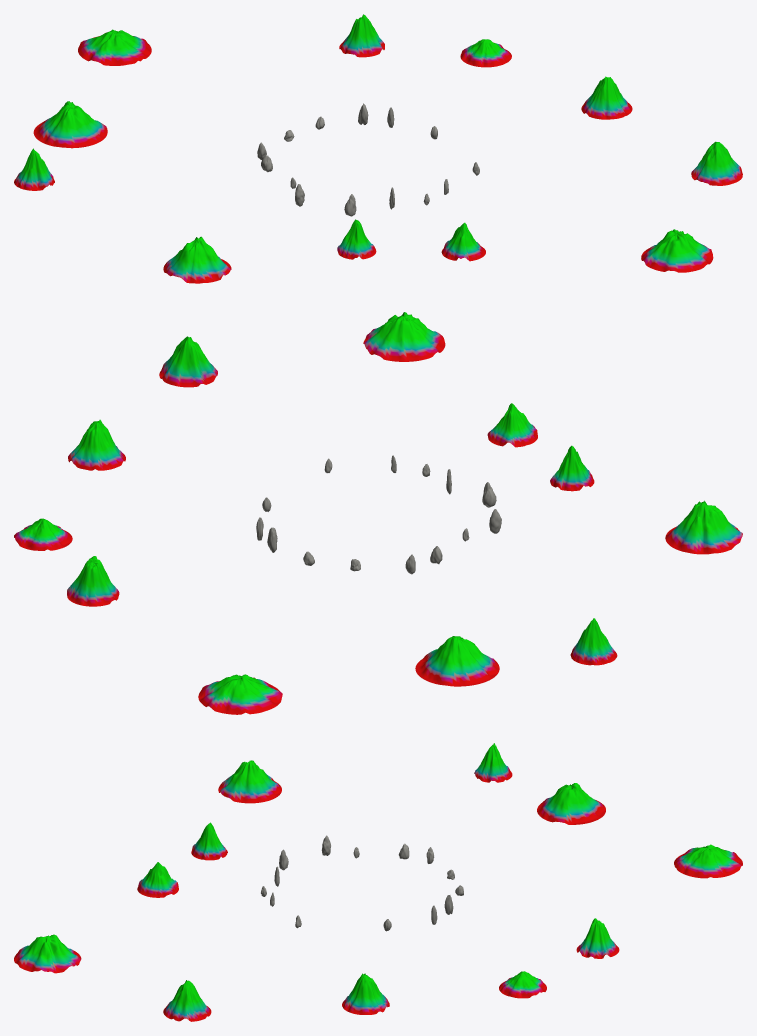
Rendered from dao_xa.glb.
The picture shows the model from 3 angles, top to bottom: view 1: azimuth 30°, elevation 25°; view 2: azimuth 150°, elevation 25°; view 3: azimuth 270°, elevation 25°; orthographic projection. The views are drawn at different scales.
Visible parts, largest first — view 1: dao_xa, cot_da; view 2: dao_xa, cot_da; view 3: dao_xa, cot_da.
Part boxes in pixels (bbox=[...]): dao_xa: bbox=[14, 14, 742, 283]; cot_da: bbox=[257, 103, 479, 216]; dao_xa: bbox=[14, 312, 742, 714]; cot_da: bbox=[256, 455, 501, 574]; dao_xa: bbox=[14, 743, 742, 1021]; cot_da: bbox=[261, 835, 463, 931].
Bounding box in the file's own units: 500 × 30.62 × 604.
